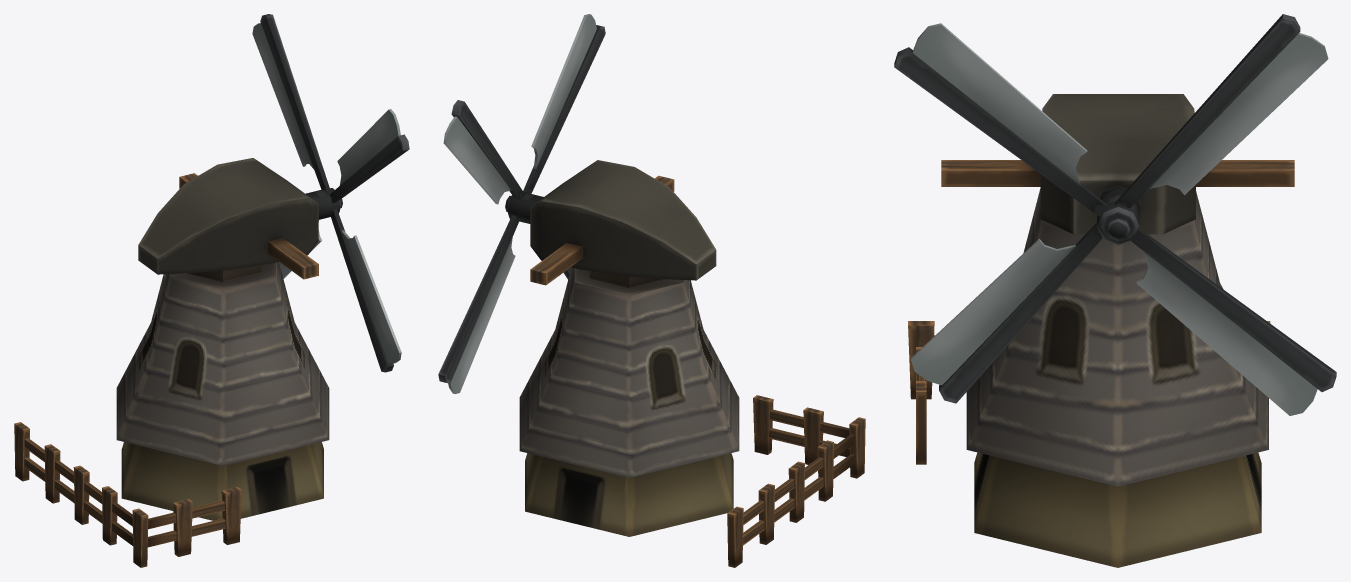
The model's file is fengche_01.FBX.
3 renders of one model, left to right at view 1: azimuth 30°, elevation 25°; view 2: azimuth 150°, elevation 25°; view 3: azimuth 270°, elevation 25°, orthographic. The views are drawn at different scales.
Parts seen in each view (by area): view 1: Cylinder002, Object036; view 2: Cylinder002, Object036; view 3: Cylinder002, Object036.
Boxes of the visible parts, x1,y1,x2,y2 form: Cylinder002: (14,158,329,567); Object036: (252,14,409,372); Cylinder002: (519,160,865,567); Object036: (438,14,605,393); Cylinder002: (908,94,1294,567); Object036: (894,14,1336,415).
Size of the model in its own units: 734 by 1016 by 729.
Materials: 1 (1 with a texture image).
